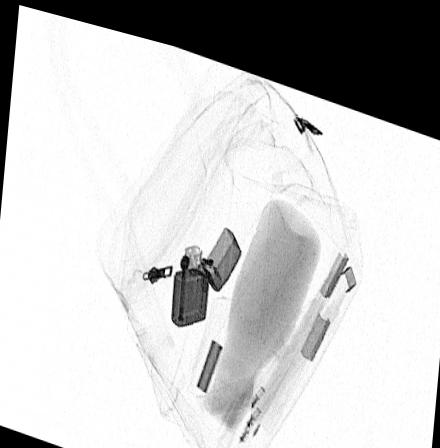Lighter: (170, 213, 242, 317)
